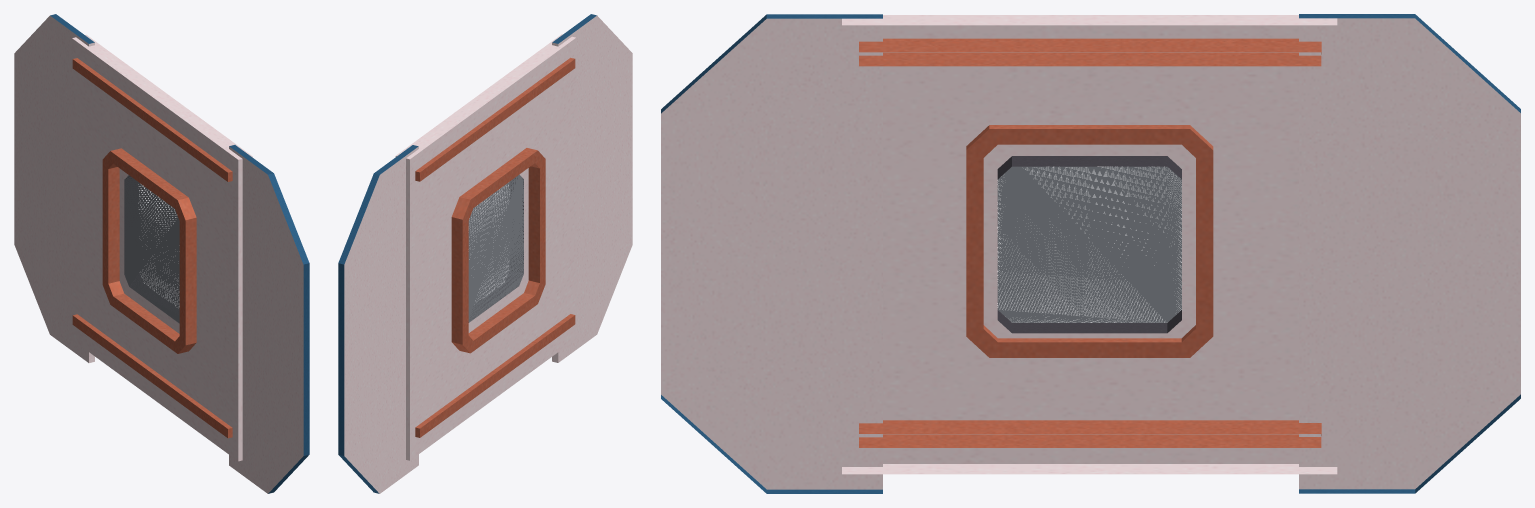
The model's file is Wall.fbx.
3 views of the same model, side by side, from view 1: azimuth 30°, elevation 25°; view 2: azimuth 150°, elevation 25°; view 3: azimuth 270°, elevation 25° (orthographic). The views are drawn at different scales.
Parts seen in each view (by area): view 1: MeshBaker___30_00___30_00___60_00__mesh_mesh; view 2: MeshBaker___30_00___30_00___60_00__mesh_mesh; view 3: MeshBaker___30_00___30_00___60_00__mesh_mesh.
Boxes of the visible parts, x1,y1,x2,y2 form: MeshBaker___30_00___30_00___60_00__mesh_mesh: (14,14,309,493); MeshBaker___30_00___30_00___60_00__mesh_mesh: (338,14,632,493); MeshBaker___30_00___30_00___60_00__mesh_mesh: (661,14,1520,493).
Bounding box in the file's own units: 41.96 × 424 × 694.
